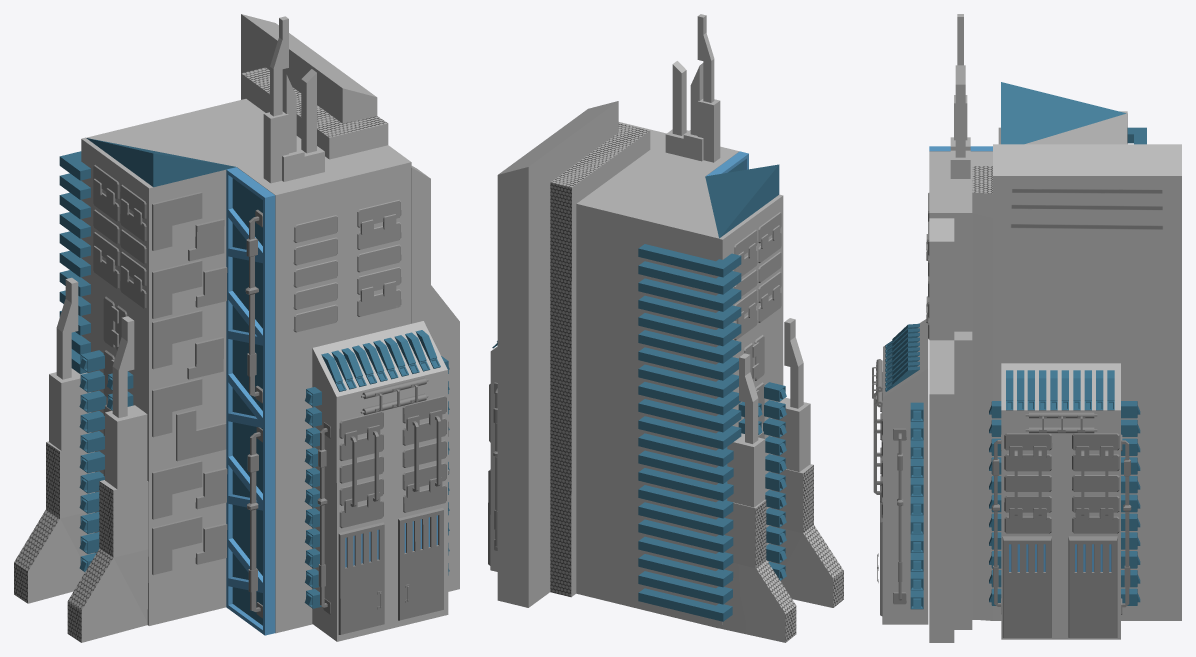
File: SM_Building_03_SM_B3_D.fbx
The picture shows the model from 3 angles, left to right: view 1: azimuth 30°, elevation 25°; view 2: azimuth 150°, elevation 25°; view 3: azimuth 270°, elevation 25°; orthographic projection. The views are drawn at different scales.
Parts seen in each view (by area): view 1: SM_Building_03_SM_B3_D; view 2: SM_Building_03_SM_B3_D; view 3: SM_Building_03_SM_B3_D.
Part boxes in pixels (x1,y1,x2,y2): SM_Building_03_SM_B3_D: (14,14,459,642); SM_Building_03_SM_B3_D: (488,14,843,642); SM_Building_03_SM_B3_D: (872,14,1181,642).
Bounding box in the file's own units: 3326 × 2793 × 5526.
1 material, 1 textured.
